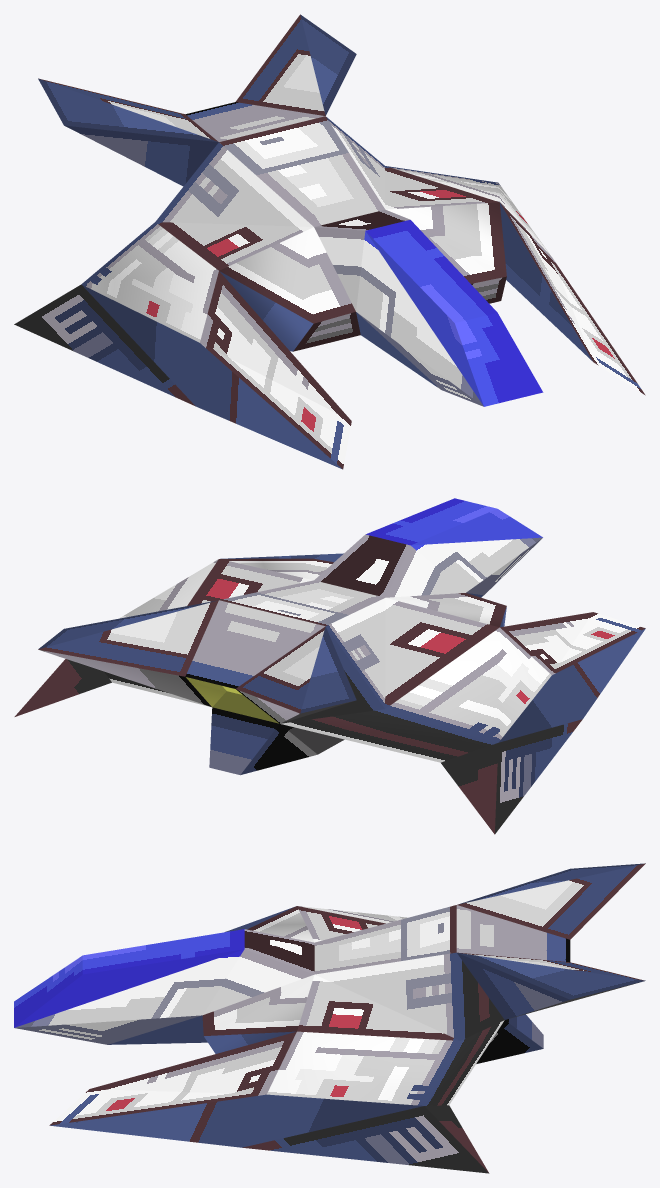
Rendered from pixel_spaceship.glb.
3 views of the same model, one above another, from view 1: azimuth 30°, elevation 25°; view 2: azimuth 150°, elevation 25°; view 3: azimuth 270°, elevation 25° (orthographic). The views are drawn at different scales.
Parts seen in each view (by area): view 1: Spaceship; view 2: Spaceship; view 3: Spaceship.
Boxes of the visible parts, x1,y1,x2,y2 form: Spaceship: (14, 14, 645, 469); Spaceship: (14, 498, 645, 834); Spaceship: (14, 863, 645, 1173).
Bounding box in the file's own units: 1.6 × 0.4979 × 1.98.
Materials: 1 (1 with a texture image).
